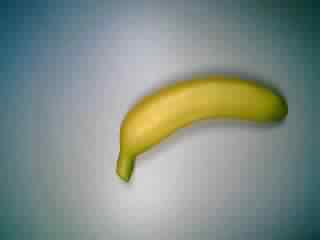banana: (114, 75, 290, 182)
